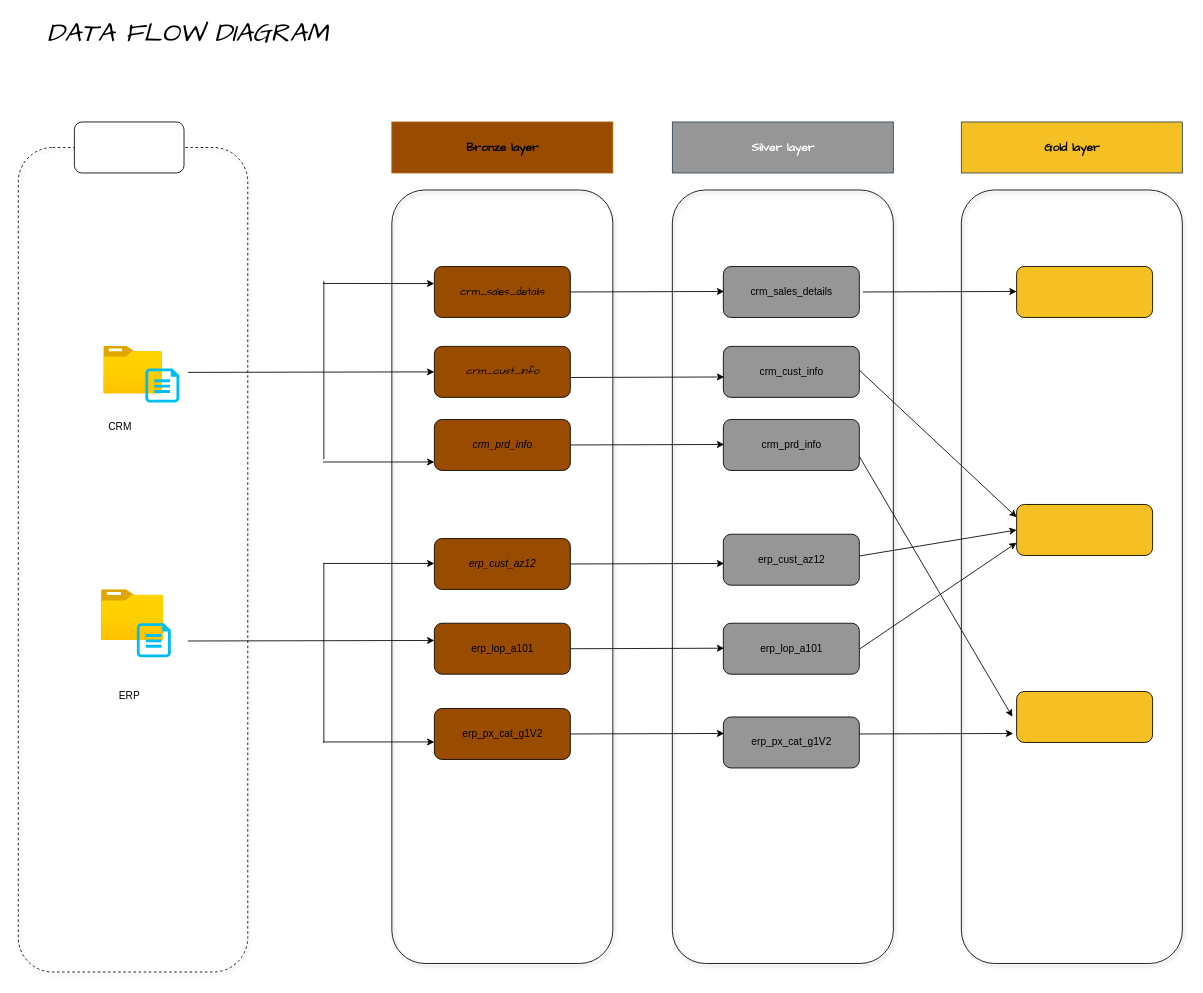
The diagram is 1203 pixels wide and 993 high, and some of its shapes have lost their labels. Each missing label, with the centre of its shape:
dim_customers: point (1084, 529)
dim_products: point (1084, 716)
fact_sales: point (1084, 291)
Source: point (129, 147)
